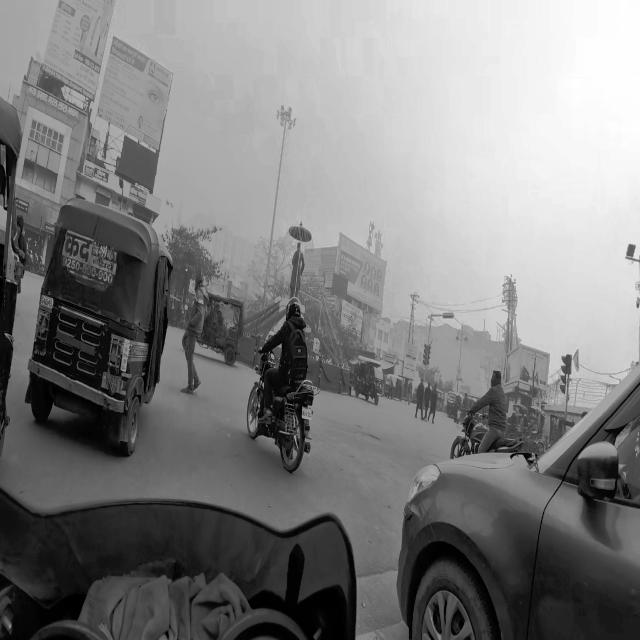Auto-Rickshaw: (41, 202, 176, 468)
Bike: (253, 298, 317, 496), (452, 373, 518, 455)
Car: (393, 371, 640, 640)
Toto: (196, 292, 248, 368), (354, 354, 384, 406)
